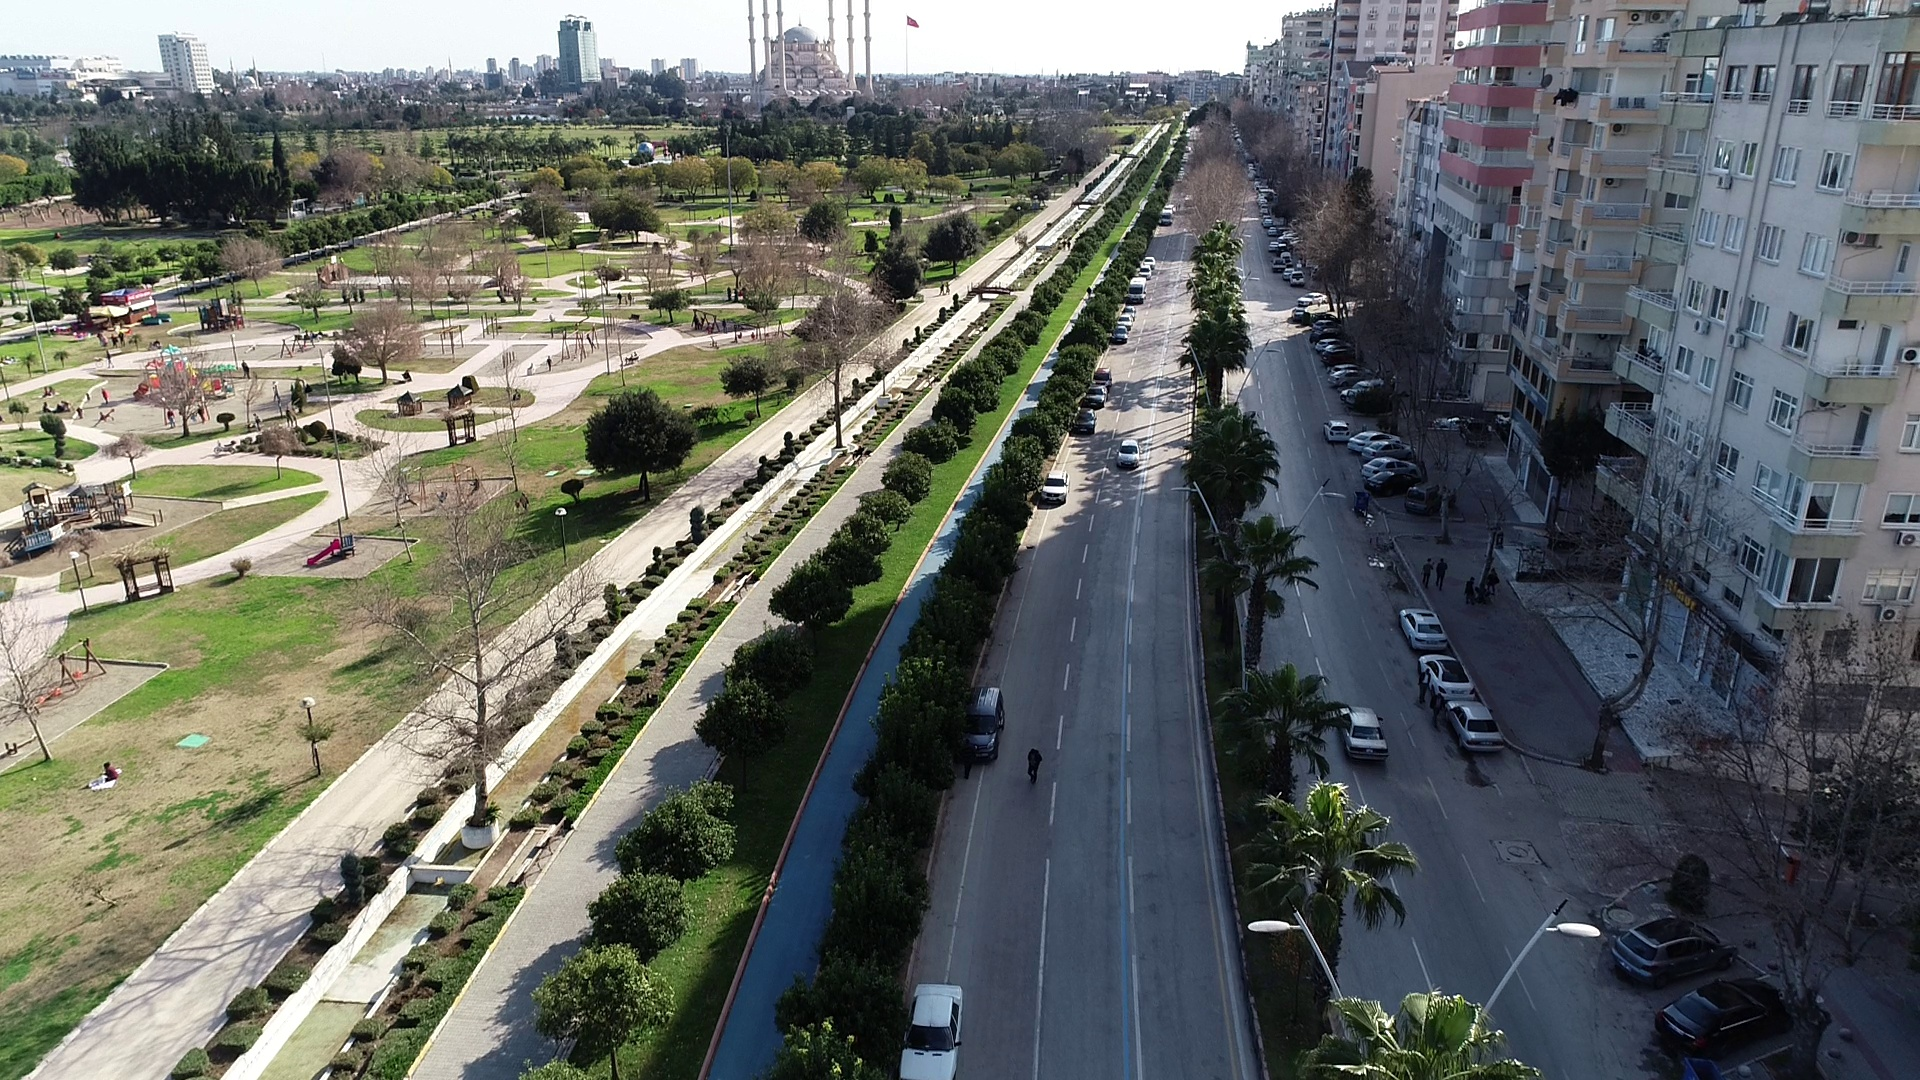car: (1661, 966, 1781, 1052), (1611, 912, 1737, 986), (894, 982, 970, 1080), (953, 686, 1012, 768), (1447, 698, 1517, 751), (1415, 647, 1480, 700), (1337, 702, 1386, 766), (1390, 610, 1449, 649), (1369, 466, 1423, 496), (1039, 470, 1072, 510), (1114, 431, 1143, 472), (1070, 414, 1100, 439)
person: (1021, 741, 1055, 792), (96, 757, 125, 792), (1485, 558, 1508, 598), (1465, 572, 1480, 614), (1423, 555, 1437, 594), (1435, 559, 1453, 588)
